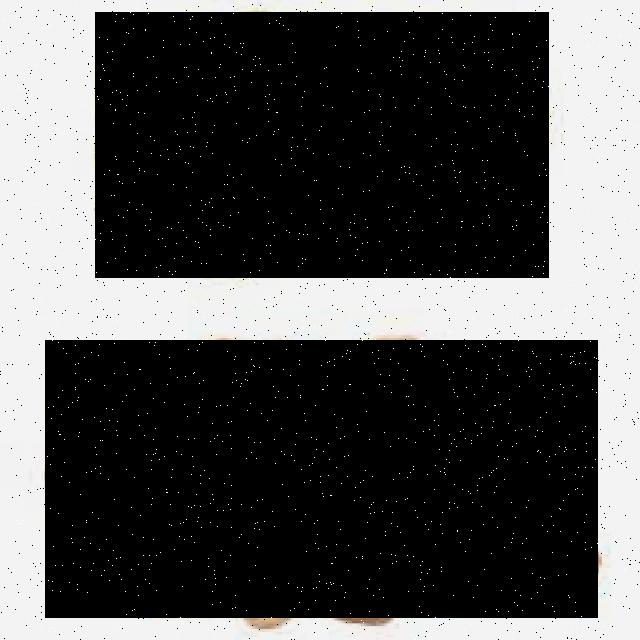Broad_Beans: (45, 340, 598, 618), (70, 343, 537, 616), (95, 12, 549, 278)
